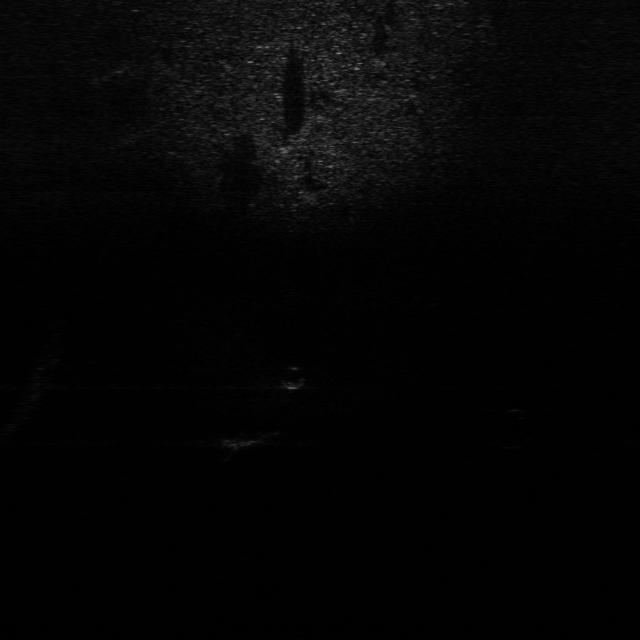ball: (274, 366, 310, 392)
square cage: (218, 428, 276, 450)
tyre: (488, 405, 543, 452)
